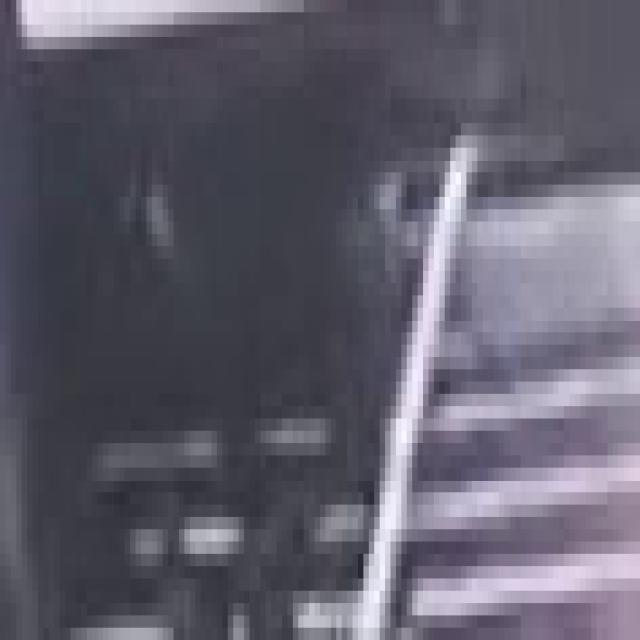stick: (333, 122, 502, 640)
